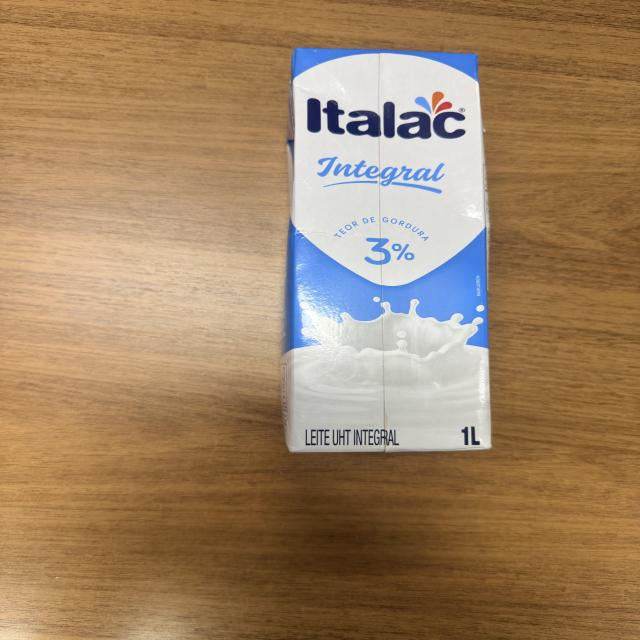Caixa de Leite: (286, 54, 493, 448)
